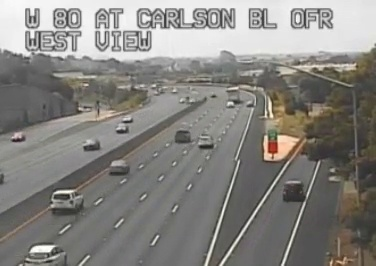car: (24, 245, 67, 266), (50, 189, 83, 210), (283, 181, 304, 200), (109, 160, 129, 174), (174, 129, 190, 143), (197, 135, 213, 147)
